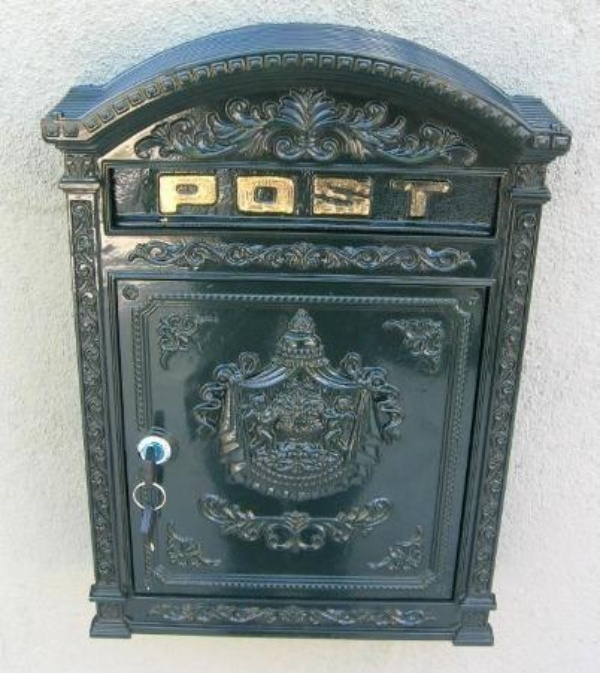text: (161, 171, 176, 220), (177, 171, 192, 220), (193, 171, 208, 220), (209, 171, 224, 220), (225, 171, 240, 220), (241, 171, 256, 220), (257, 171, 272, 220), (273, 171, 288, 220), (289, 171, 304, 220), (305, 171, 320, 220), (321, 171, 336, 220), (337, 171, 352, 220), (353, 171, 368, 220), (369, 171, 384, 220), (385, 171, 400, 220), (401, 171, 416, 220), (417, 171, 432, 220), (433, 171, 448, 220), (449, 171, 451, 220)
